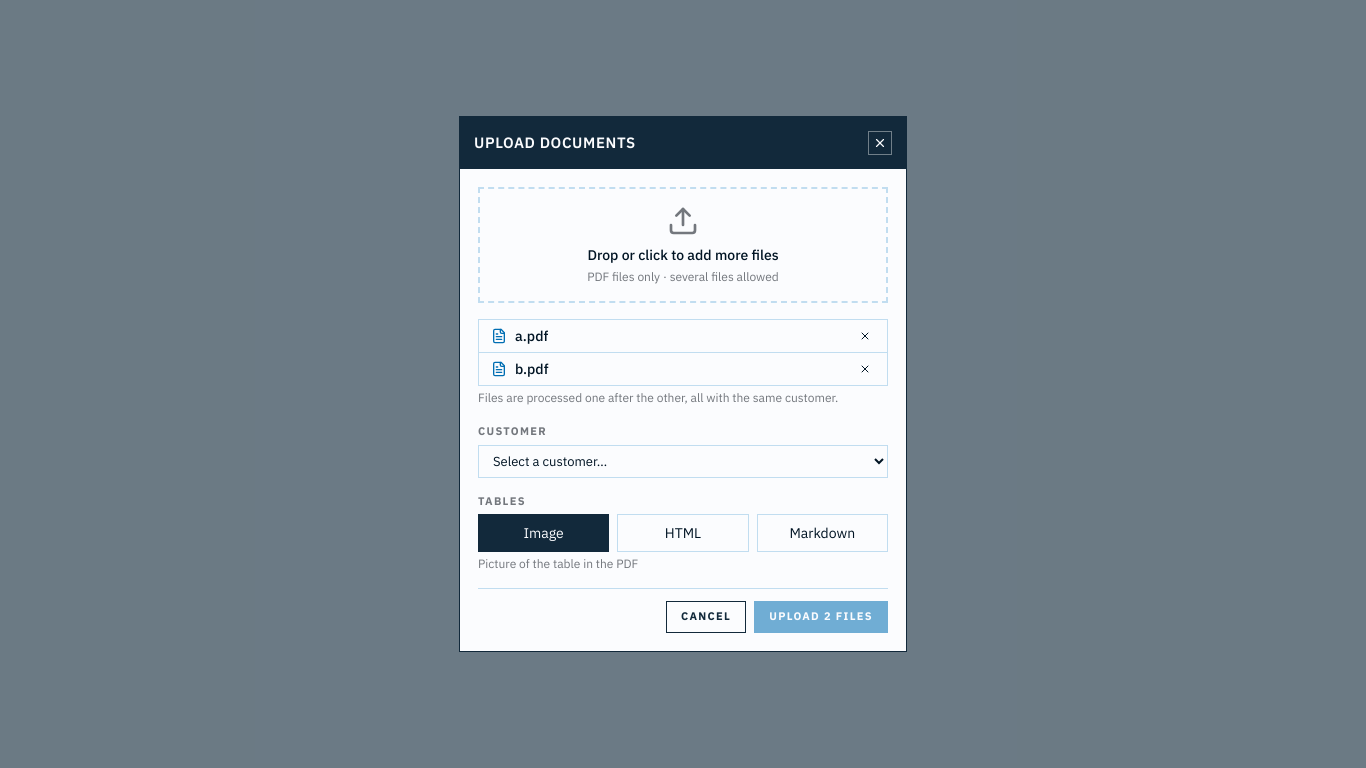
Test: UploadDialog › lets a selected file be removed
Click the button named "Remove a.pdf" at (865, 336), box [855,326,875,346]
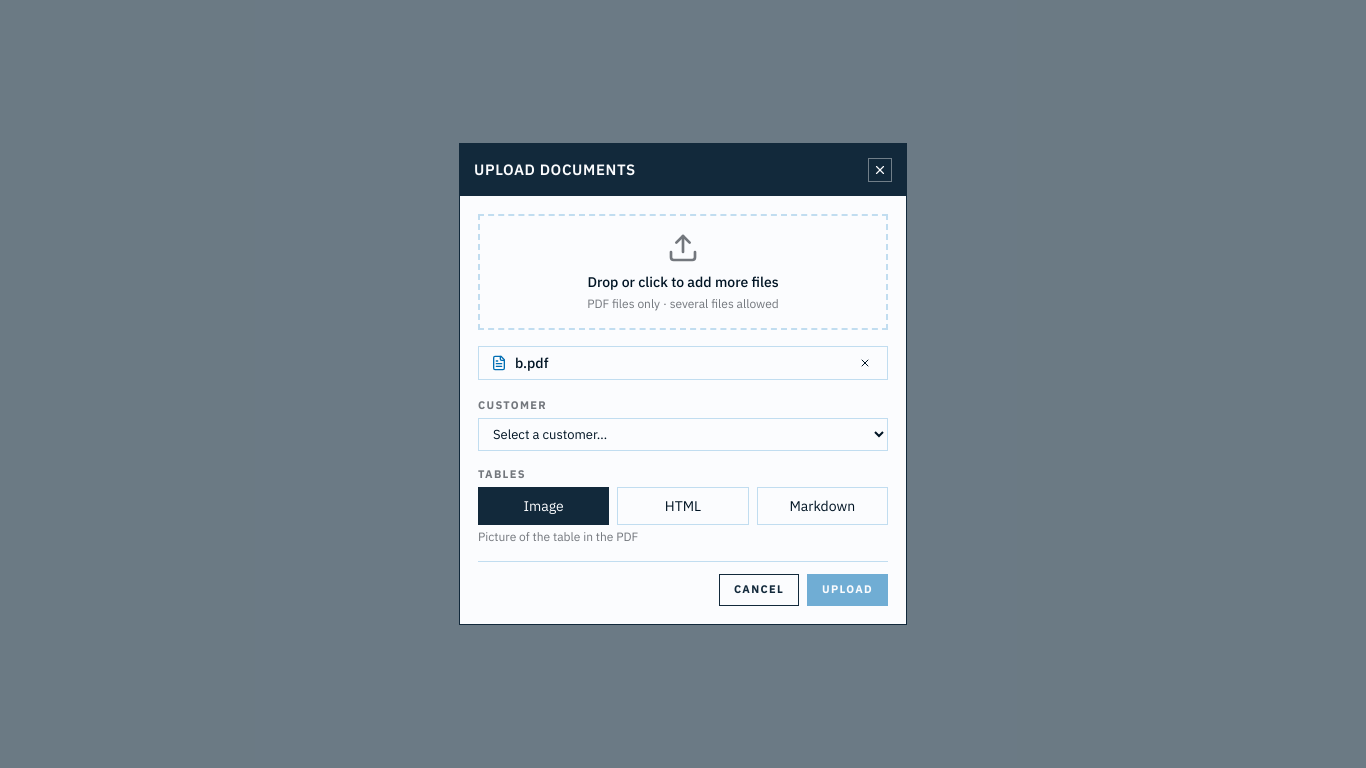
Check: the text "b.pdf" is shown, box [515,354,548,372]
Check: the text "a.pdf" is gone
